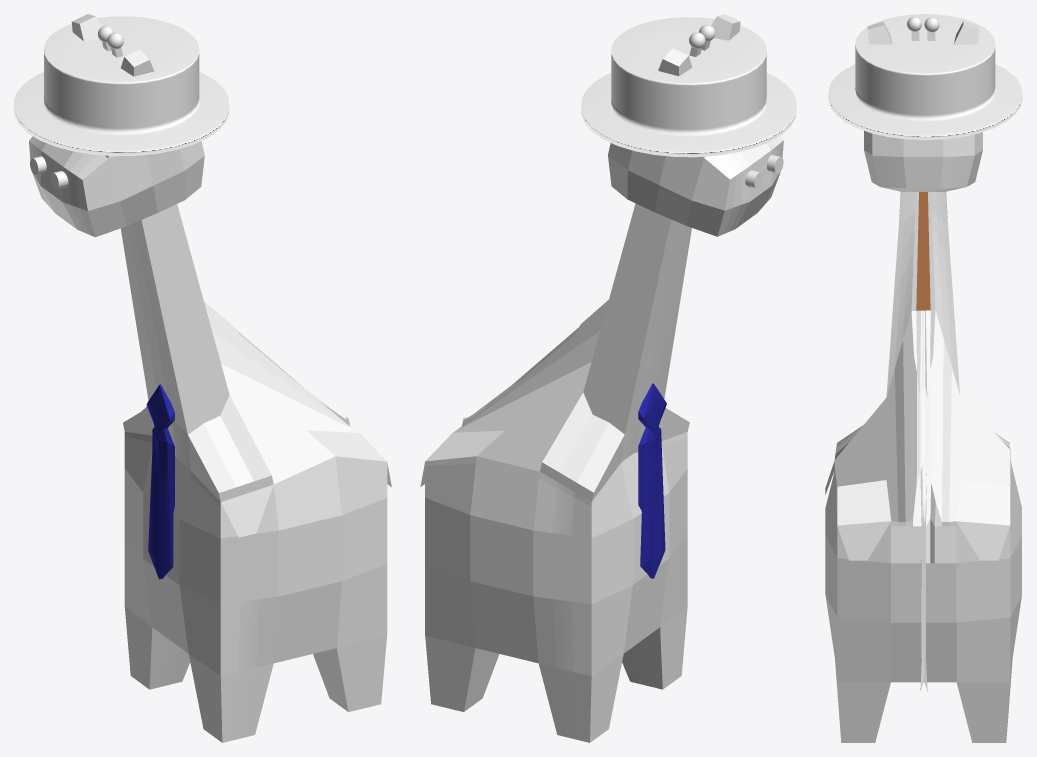
File: rafrafwalking_phoed_stropdas.gltf
3 views of the same model, side by side, from view 1: azimuth 30°, elevation 25°; view 2: azimuth 150°, elevation 25°; view 3: azimuth 270°, elevation 25° (orthographic). The views are drawn at different scales.
Visible parts, largest first — view 1: Cube, Cylinder, Cube.002, Cube.006, Cube.001, Cube.003; view 2: Cube, Cylinder, Cube.003, Cube.006, Cube.004, Cube.002; view 3: Cube, Cylinder, Cube.001, Cube.004.
Boxes of the visible parts, x1,y1,x2,y2 form: Cube: [29, 14, 391, 675]; Cylinder: [14, 16, 229, 156]; Cube.002: [188, 654, 273, 742]; Cube.006: [146, 384, 174, 579]; Cube.001: [313, 636, 386, 711]; Cube.003: [124, 606, 190, 689]; Cube: [420, 14, 783, 675]; Cylinder: [581, 17, 796, 157]; Cube.003: [538, 654, 623, 742]; Cube.006: [638, 383, 666, 578]; Cube.004: [425, 635, 499, 711]; Cube.002: [622, 606, 687, 689]; Cube: [825, 17, 1021, 691]; Cylinder: [828, 14, 1022, 140]; Cube.001: [835, 661, 890, 742]; Cube.004: [956, 663, 1012, 742].
Size of the model in its own units: 3.76 by 7.03 by 2.
8 materials, 1 textured.
